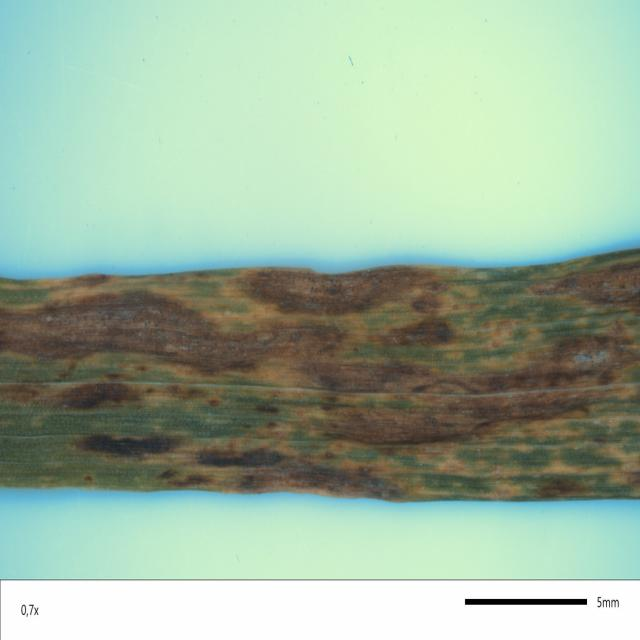wheat-septoria: (0, 248, 640, 506)
